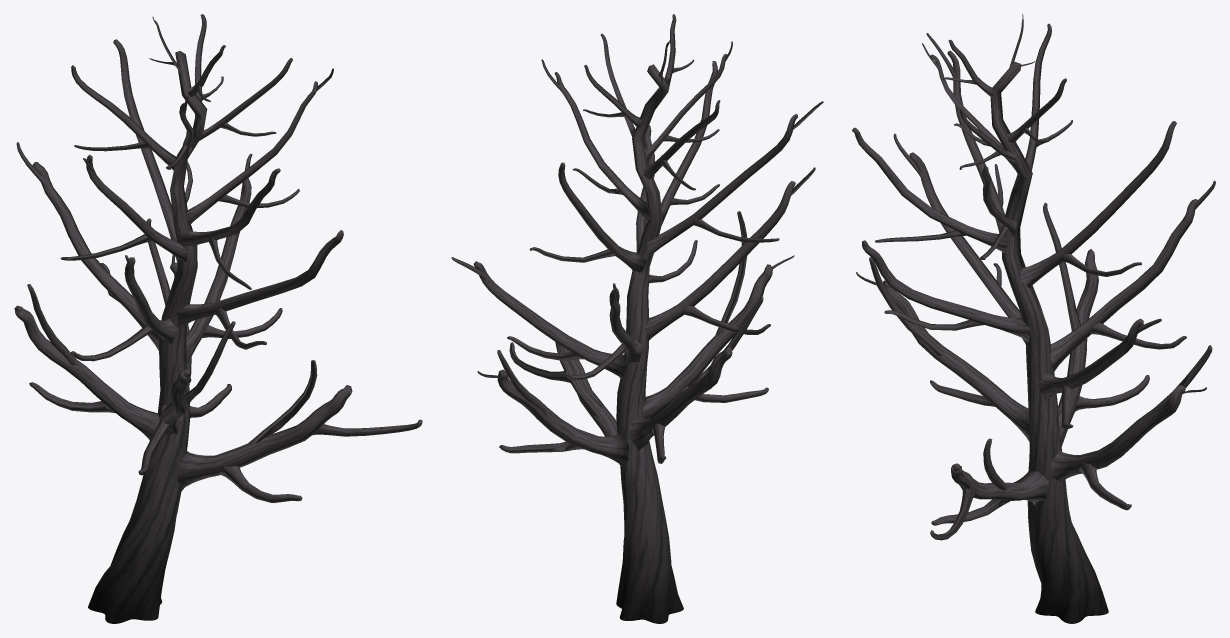
The model's file is dead_2.glb.
3 views of the same model, side by side, from view 1: azimuth 30°, elevation 25°; view 2: azimuth 150°, elevation 25°; view 3: azimuth 270°, elevation 25° (orthographic). The views are drawn at different scales.
Visible parts, largest first — view 1: DeadTree_2; view 2: DeadTree_2; view 3: DeadTree_2.
Boxes of the visible parts, x1,y1,x2,y2 form: DeadTree_2: [14, 14, 422, 623]; DeadTree_2: [451, 14, 823, 623]; DeadTree_2: [852, 14, 1215, 623].
Size of the model in its own units: 6.73 by 11.49 by 6.38.
Materials: 1 (1 with a texture image).
